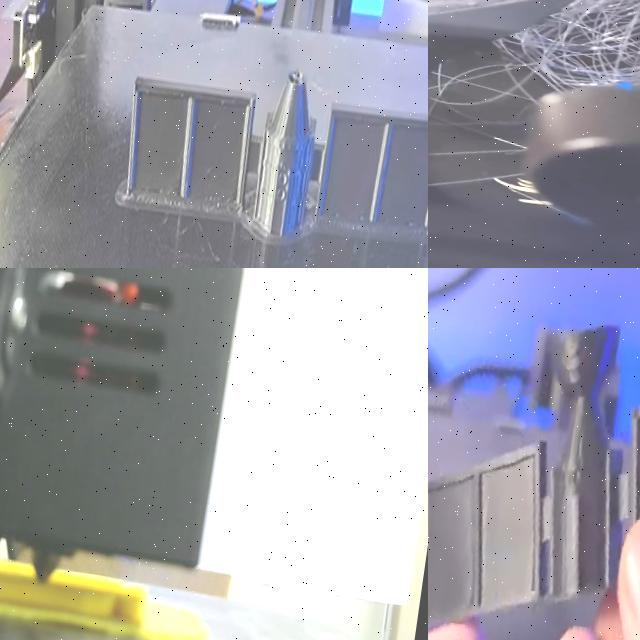spaghetti: (436, 0, 640, 123)
